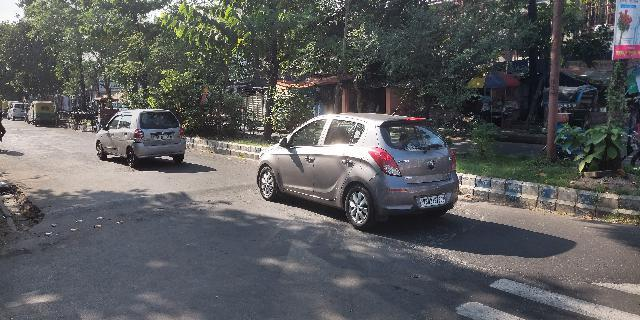Autorickshaw: (24, 99, 63, 129)
Car: (253, 107, 462, 231), (92, 106, 191, 171)
